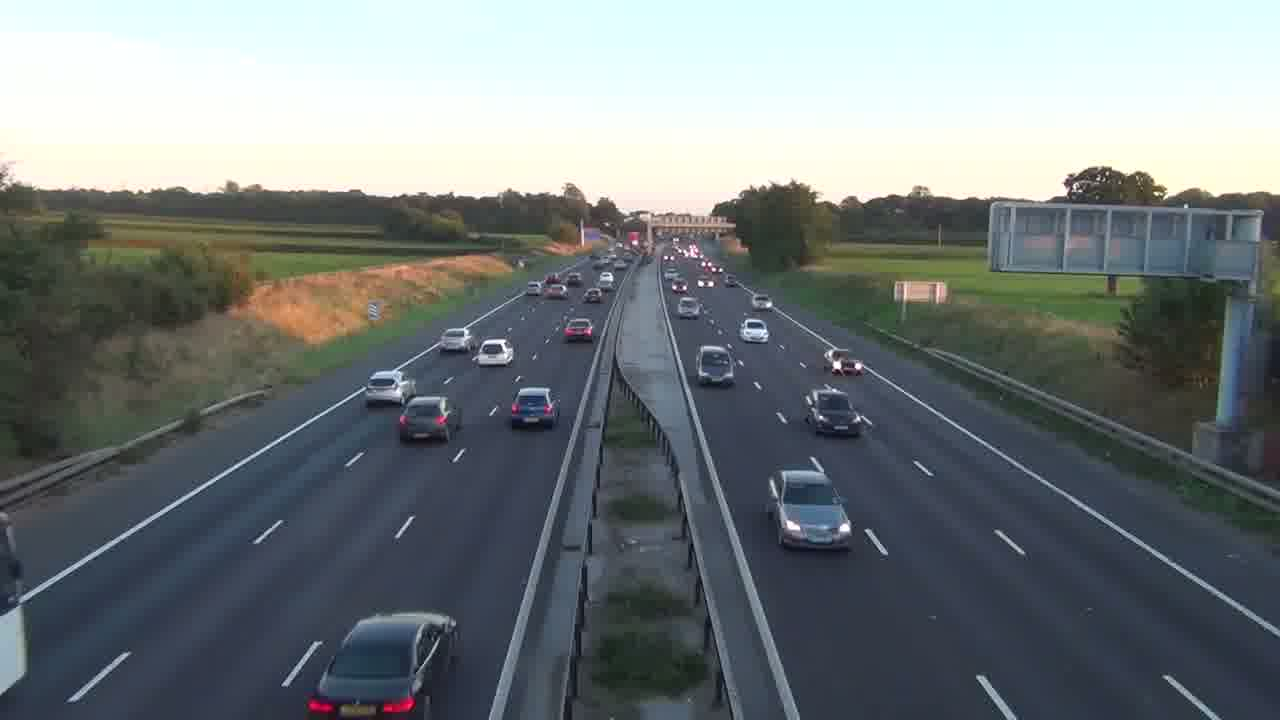car: (305, 610, 460, 718), (767, 455, 853, 551), (802, 386, 874, 438), (802, 387, 874, 438), (397, 395, 454, 443), (509, 386, 560, 430), (365, 367, 416, 408), (473, 338, 515, 367), (439, 326, 470, 353), (562, 318, 594, 343), (739, 318, 770, 343)
truck: (305, 610, 460, 718)
